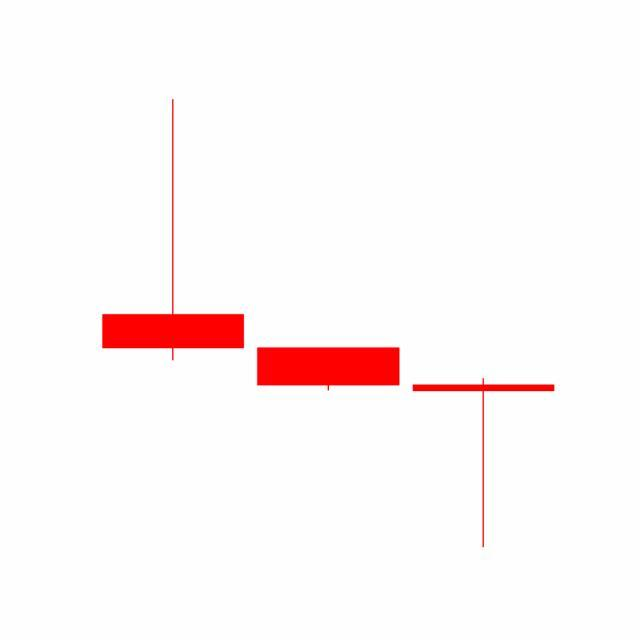Hammer: (406, 377, 562, 550)
